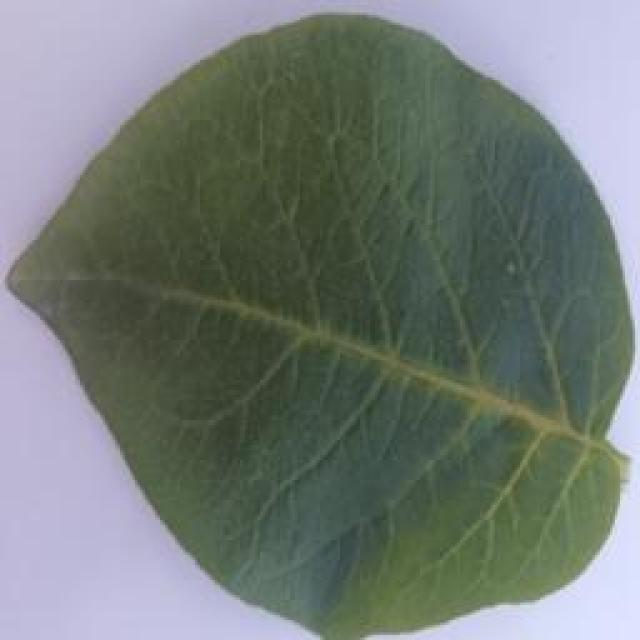Potato_Healthy: (5, 11, 622, 634)
